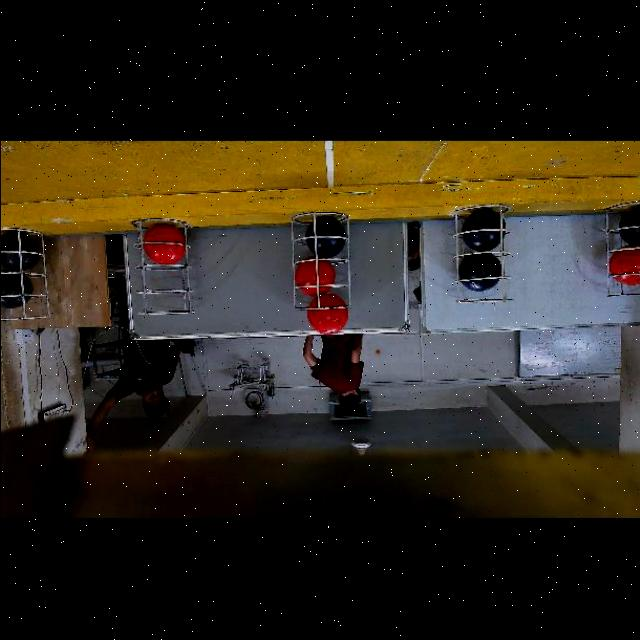P: (463, 209, 504, 250), (457, 252, 500, 291), (304, 217, 344, 257), (0, 232, 39, 270), (0, 269, 32, 308), (617, 204, 640, 243)
R: (143, 222, 183, 262), (294, 255, 334, 295), (307, 294, 347, 332), (609, 243, 640, 284)
S: (122, 217, 192, 316), (449, 202, 511, 310), (286, 210, 350, 306), (1, 227, 52, 321), (600, 198, 640, 300)
